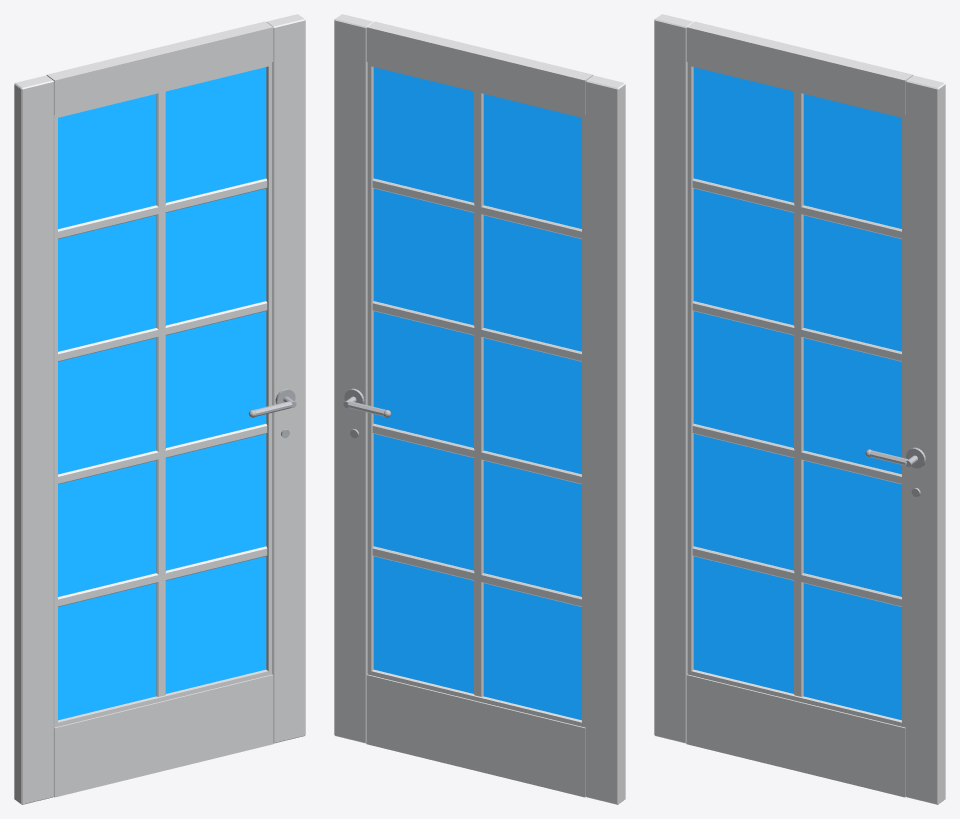
File: porta_vidro_10_branca.glb
3 renders of one model, left to right at view 1: azimuth 30°, elevation 25°; view 2: azimuth 150°, elevation 25°; view 3: azimuth 330°, elevation 25°, orthographic.
Parts seen in each view (by area): view 1: porta_vidro_10_branca; view 2: porta_vidro_10_branca; view 3: porta_vidro_10_branca.
Part boxes in pixels (x1,y1,x2,y2): porta_vidro_10_branca: (14,14,305,804); porta_vidro_10_branca: (334,14,625,804); porta_vidro_10_branca: (654,14,945,804).
Bounding box in the file's own units: 0.86 × 2.07 × 0.143.
